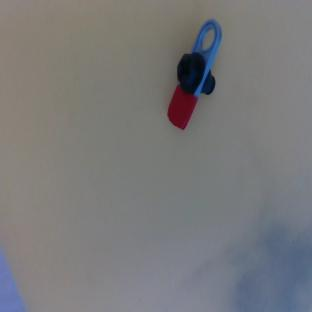part_1_good: (159, 13, 235, 135)
